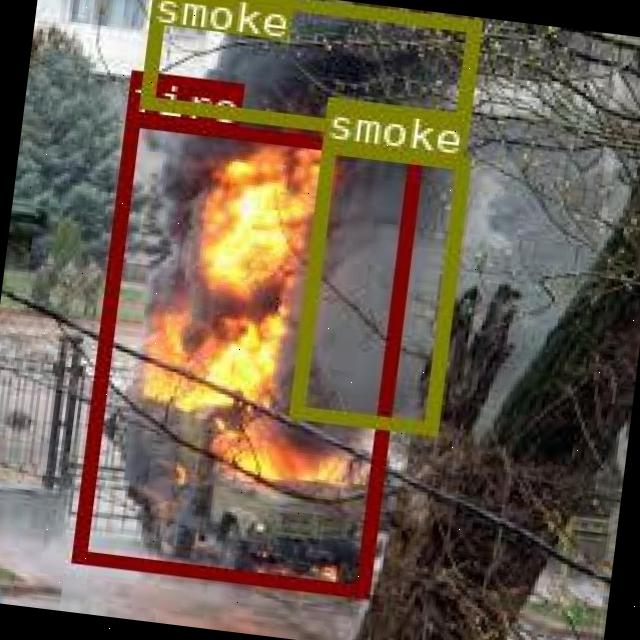fire: (69, 111, 419, 594)
smoke: (287, 138, 467, 432), (140, 0, 480, 145)
